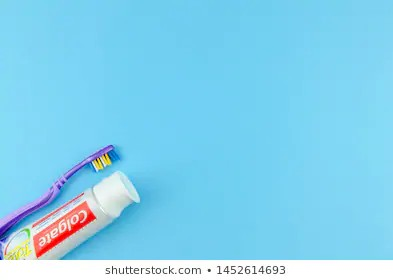colgate-total-150gm: (1, 167, 146, 258)
toothbrush: (52, 142, 129, 194)
